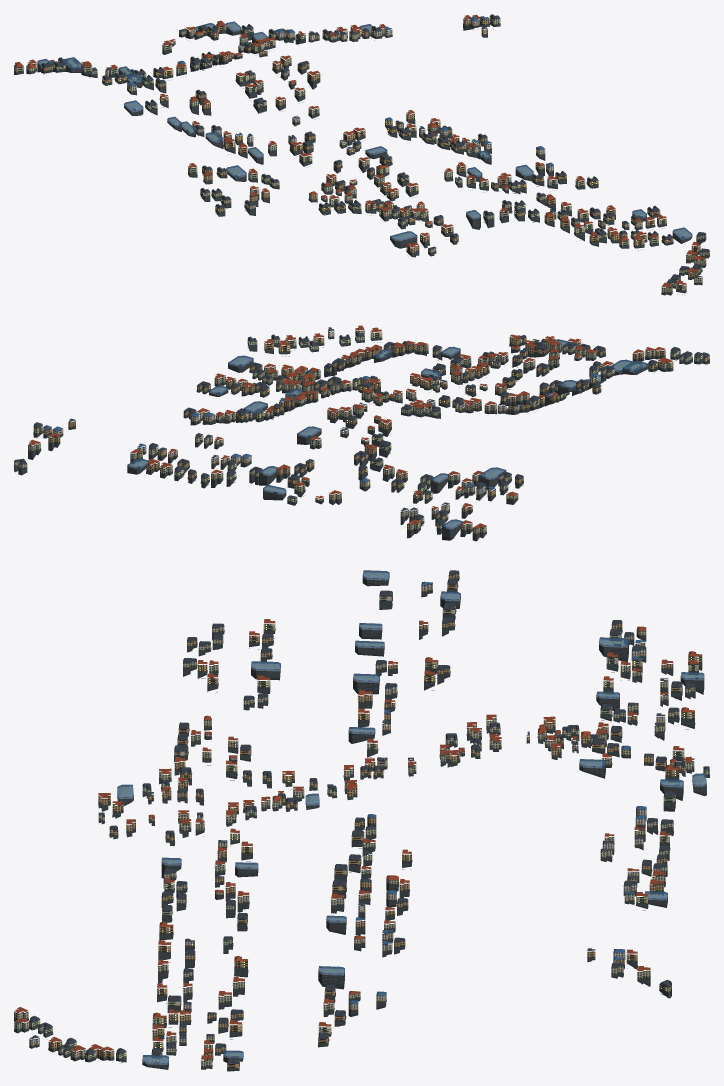
File: osm_buildings_T_E01_S02_Q3.glb
3 views of the same model, one above another, from view 1: azimuth 30°, elevation 25°; view 2: azimuth 150°, elevation 25°; view 3: azimuth 270°, elevation 25° (orthographic). The views are drawn at different scales.
Visible parts, largest first — view 1: OSM_T_E01_S02_Q3_foundation, OSM_T_E01_S02_Q3_wall_cream_stucco, OSM_T_E01_S02_Q3_wall_french_ochre, OSM_T_E01_S02_Q3_roof_terracotta, OSM_T_E01_S02_Q3_roof_mansard_slate, OSM_T_E01_S02_Q3_greenhouse_blend, OSM_T_E01_S02_Q3_roof_mansard_deck, OSM_T_E01_S02_Q3_roof_mint_metal, OSM_T_E01_S02_Q3_balcony_railing, OSM_T_E01_S02_Q3_window_emissive_warm, OSM_T_E01_S02_Q3_wall_pastel_sand, OSM_T_E01_S02_Q3_wall_warm_white (+1 smaller); view 2: OSM_T_E01_S02_Q3_foundation, OSM_T_E01_S02_Q3_wall_cream_stucco, OSM_T_E01_S02_Q3_wall_french_ochre, OSM_T_E01_S02_Q3_roof_terracotta, OSM_T_E01_S02_Q3_roof_mansard_slate, OSM_T_E01_S02_Q3_greenhouse_blend, OSM_T_E01_S02_Q3_roof_mansard_deck, OSM_T_E01_S02_Q3_roof_mint_metal, OSM_T_E01_S02_Q3_wall_pastel_sand, OSM_T_E01_S02_Q3_wall_warm_white, OSM_T_E01_S02_Q3_balcony_railing, OSM_T_E01_S02_Q3_trim_cornice (+2 smaller); view 3: OSM_T_E01_S02_Q3_foundation, OSM_T_E01_S02_Q3_wall_cream_stucco, OSM_T_E01_S02_Q3_wall_french_ochre, OSM_T_E01_S02_Q3_roof_terracotta, OSM_T_E01_S02_Q3_roof_mansard_slate, OSM_T_E01_S02_Q3_greenhouse_blend, OSM_T_E01_S02_Q3_roof_mansard_deck, OSM_T_E01_S02_Q3_trim_cornice, OSM_T_E01_S02_Q3_roof_mint_metal, OSM_T_E01_S02_Q3_wall_warm_white, OSM_T_E01_S02_Q3_balcony_railing, OSM_T_E01_S02_Q3_wall_pastel_sand.
Part boxes in pixels (x1,y1,x2,y2): OSM_T_E01_S02_Q3_foundation: (14, 22, 709, 295); OSM_T_E01_S02_Q3_wall_cream_stucco: (14, 16, 709, 292); OSM_T_E01_S02_Q3_wall_french_ochre: (41, 17, 700, 277); OSM_T_E01_S02_Q3_roof_terracotta: (14, 14, 705, 287); OSM_T_E01_S02_Q3_roof_mansard_slate: (41, 15, 709, 283); OSM_T_E01_S02_Q3_greenhouse_blend: (37, 21, 692, 241); OSM_T_E01_S02_Q3_roof_mansard_deck: (38, 14, 708, 281); OSM_T_E01_S02_Q3_roof_mint_metal: (14, 22, 707, 293); OSM_T_E01_S02_Q3_balcony_railing: (35, 18, 697, 288); OSM_T_E01_S02_Q3_window_emissive_warm: (41, 19, 693, 290); OSM_T_E01_S02_Q3_wall_pastel_sand: (127, 18, 702, 283); OSM_T_E01_S02_Q3_wall_warm_white: (58, 28, 491, 225); OSM_T_E01_S02_Q3_foundation: (14, 336, 709, 541); OSM_T_E01_S02_Q3_wall_cream_stucco: (14, 327, 702, 534); OSM_T_E01_S02_Q3_wall_french_ochre: (43, 335, 709, 520); OSM_T_E01_S02_Q3_roof_terracotta: (28, 325, 685, 528); OSM_T_E01_S02_Q3_roof_mansard_slate: (14, 327, 709, 525); OSM_T_E01_S02_Q3_greenhouse_blend: (127, 339, 648, 529); OSM_T_E01_S02_Q3_roof_mansard_deck: (15, 331, 708, 529); OSM_T_E01_S02_Q3_roof_mint_metal: (15, 337, 708, 539); OSM_T_E01_S02_Q3_wall_pastel_sand: (52, 330, 598, 514); OSM_T_E01_S02_Q3_wall_warm_white: (137, 347, 582, 516); OSM_T_E01_S02_Q3_balcony_railing: (34, 334, 708, 526); OSM_T_E01_S02_Q3_trim_cornice: (15, 327, 696, 531); OSM_T_E01_S02_Q3_foundation: (14, 575, 709, 1071); OSM_T_E01_S02_Q3_wall_cream_stucco: (14, 593, 709, 1066); OSM_T_E01_S02_Q3_wall_french_ochre: (48, 574, 685, 1068); OSM_T_E01_S02_Q3_roof_terracotta: (14, 592, 701, 1059); OSM_T_E01_S02_Q3_roof_mansard_slate: (29, 571, 709, 1063); OSM_T_E01_S02_Q3_greenhouse_blend: (117, 570, 706, 1064); OSM_T_E01_S02_Q3_roof_mansard_deck: (30, 570, 705, 1064); OSM_T_E01_S02_Q3_trim_cornice: (14, 574, 694, 1071); OSM_T_E01_S02_Q3_roof_mint_metal: (15, 578, 701, 1068); OSM_T_E01_S02_Q3_wall_warm_white: (148, 648, 665, 951); OSM_T_E01_S02_Q3_balcony_railing: (16, 588, 699, 1063); OSM_T_E01_S02_Q3_wall_pastel_sand: (29, 584, 691, 1046).
Size of the model in its own units: 943 by 356 by 981.
Materials: 16 (16 with a texture image).
